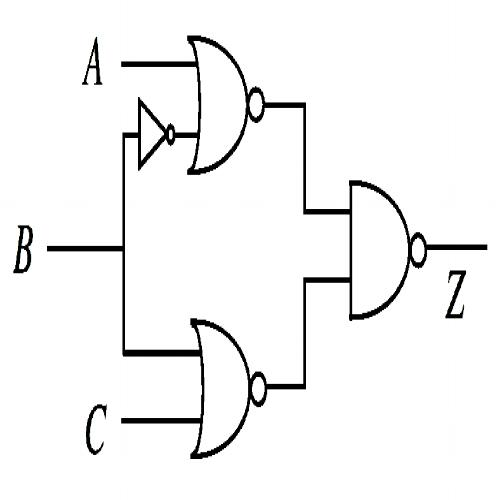nand: (334, 156, 440, 340)
nor: (174, 298, 278, 481), (180, 24, 275, 188)
not: (127, 88, 182, 181)
